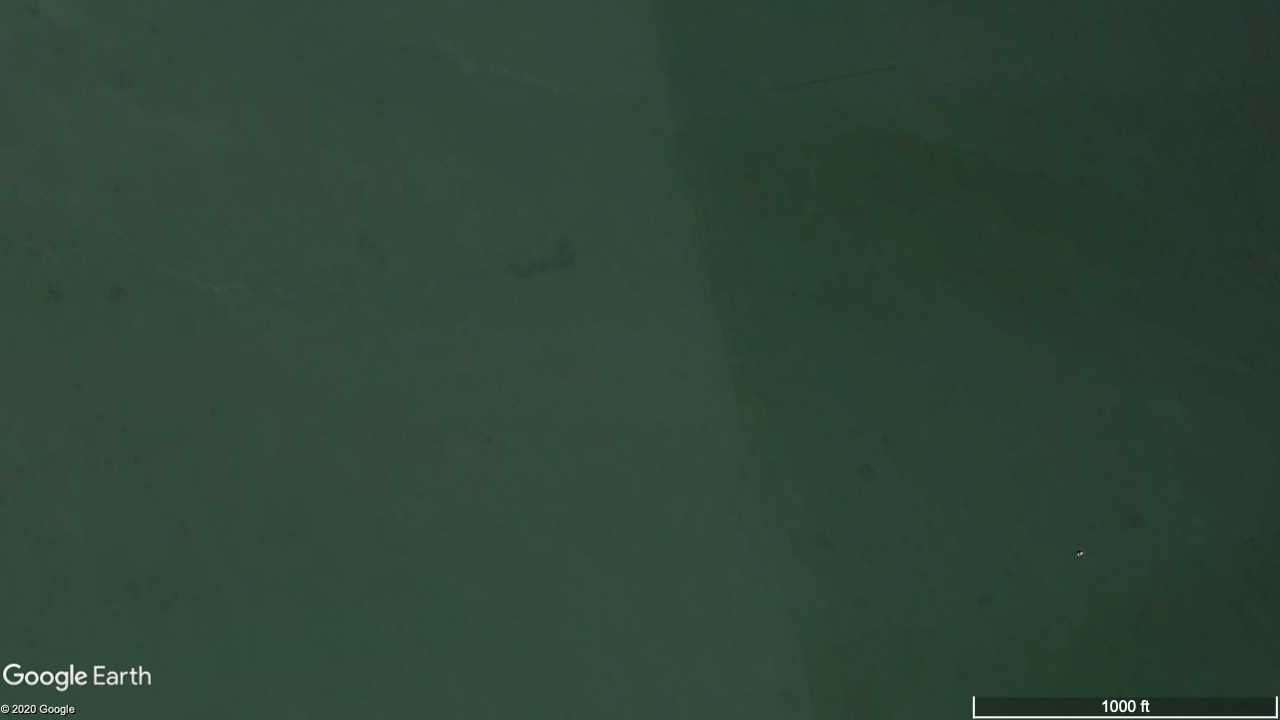satboat: (1077, 551, 1084, 557)
